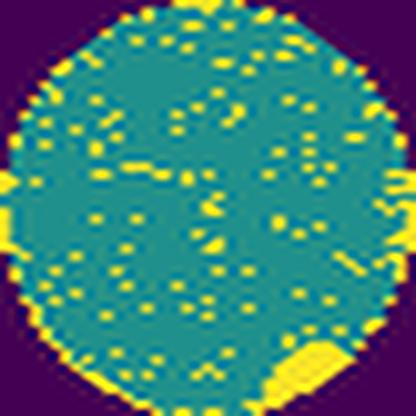Edge-Loc: (248, 334, 358, 416), (374, 200, 416, 252)
